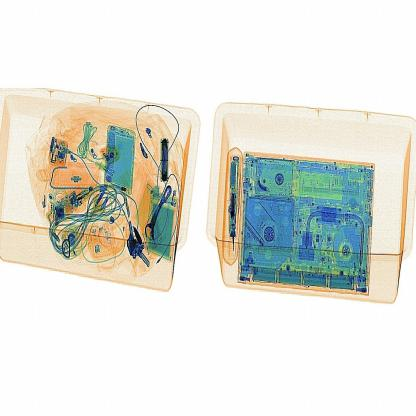scissors: (152, 129, 180, 187)
